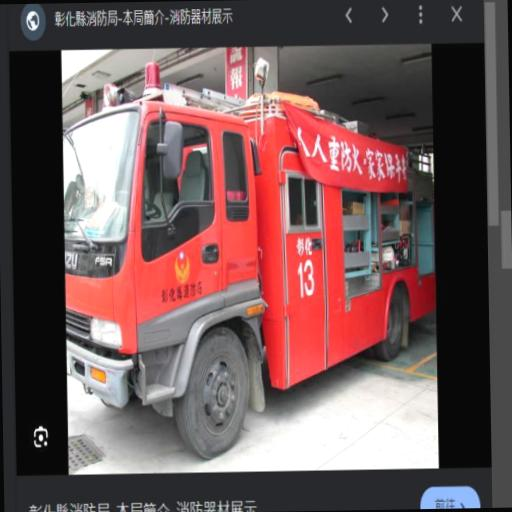fire truck: (64, 62, 435, 458)
